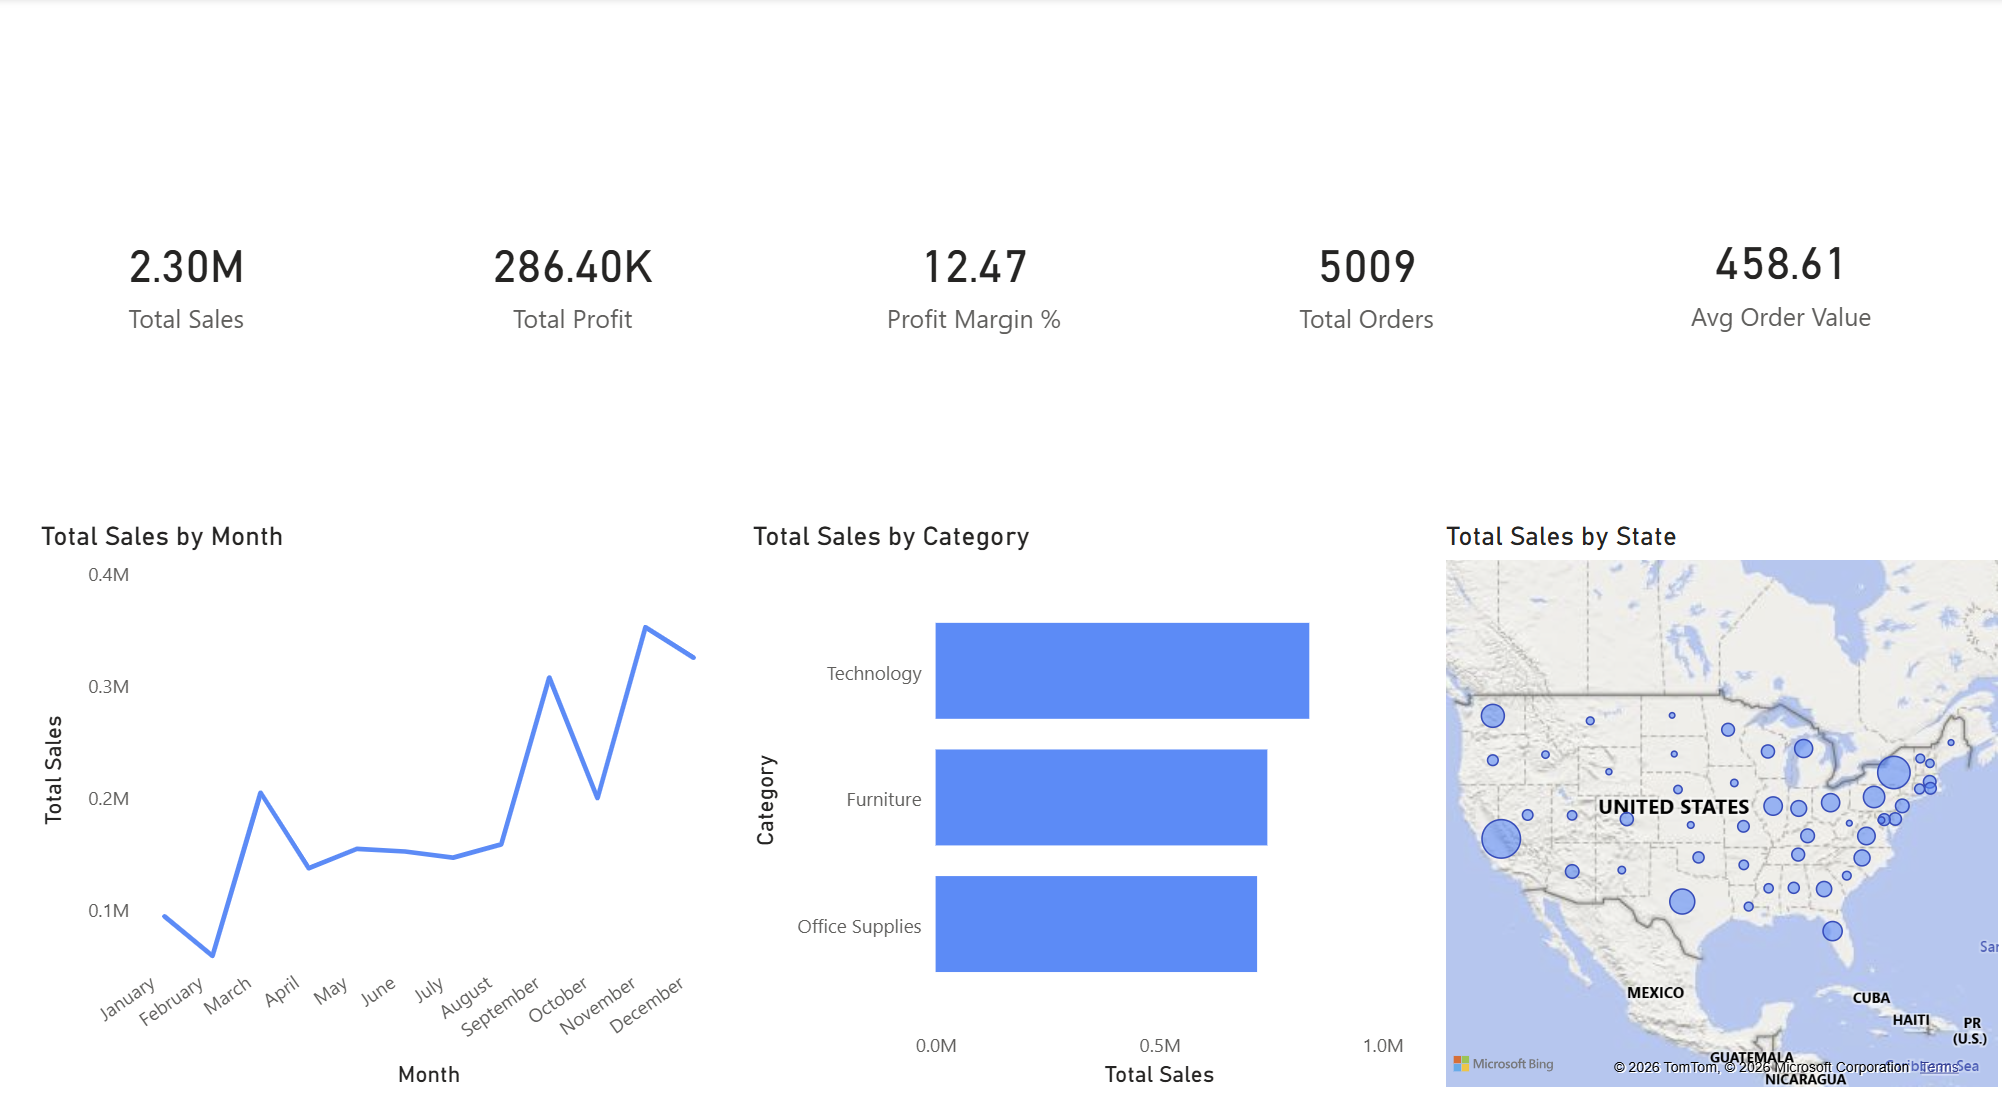

Layout of this report page (visuals, bound fields, positions):
{"tool":"powerbi","page":{"name":"Executive Overview","canvas":[1280,720],"ordinal":0},"visuals":[{"type":"card","fields":{"Values":["Orders.Total Sales"]},"box":[0,30.5,241.3,299.4],"z":0},{"type":"card","fields":{"Values":["Orders.Total Profit"]},"box":[241.3,30.5,252,299.4],"z":1000},{"type":"card","fields":{"Values":["Orders.Profit Margin %"]},"box":[493.4,30.5,258.1,299.4],"z":2000},{"type":"card","fields":{"Values":["Orders.Total Orders"]},"box":[751.5,30.5,242.9,299.4],"z":3000},{"type":"card","fields":{"Values":["Orders.Avg Order Value"]},"box":[992.8,30.5,287.2,296.3],"z":4000},{"type":"lineChart","fields":{"Category":["Orders.Order Date.Variation.Date Hierarchy.Year","Orders.Order Date.Variation.Date Hierarchy.Quarter","Orders.Order Date.Variation.Date Hierarchy.Month","Orders.Order Date.Variation.Date Hierarchy.Day"],"Y":["Orders.Total Sales"]},"box":[22.9,334.4,438.4,365.1],"z":5000},{"type":"barChart","fields":{"Category":["Orders.Category"],"Y":["Orders.Total Sales"]},"box":[477.3,334.5,424.6,365.1],"z":6000},{"type":"map","fields":{"Category":["Orders.State"],"Size":["Orders.Total Sales"]},"box":[918,334.4,362,365.1],"z":7000}]}

Visuals, with their boxes in screenshot pixels (x1, y1, x2, y2), scaled from the page's 1280x720 canvas onto the 2002x1110 screenshot:
card - Orders.Total Sales: pyautogui.locateOnScreen(0, 47, 377, 509)
card - Orders.Total Profit: pyautogui.locateOnScreen(377, 47, 772, 509)
card - Orders.Profit Margin %: pyautogui.locateOnScreen(772, 47, 1175, 509)
card - Orders.Total Orders: pyautogui.locateOnScreen(1175, 47, 1555, 509)
card - Orders.Avg Order Value: pyautogui.locateOnScreen(1553, 47, 2001, 504)
lineChart - Orders.Order Date.Variation.Date Hierarchy.Year x Orders.Order Date.Variation.Date Hierarchy.Quarter: pyautogui.locateOnScreen(36, 516, 722, 1078)
barChart - Orders.Category x Orders.Total Sales: pyautogui.locateOnScreen(747, 516, 1411, 1079)
map - Orders.State x Orders.Total Sales: pyautogui.locateOnScreen(1436, 516, 2001, 1078)
